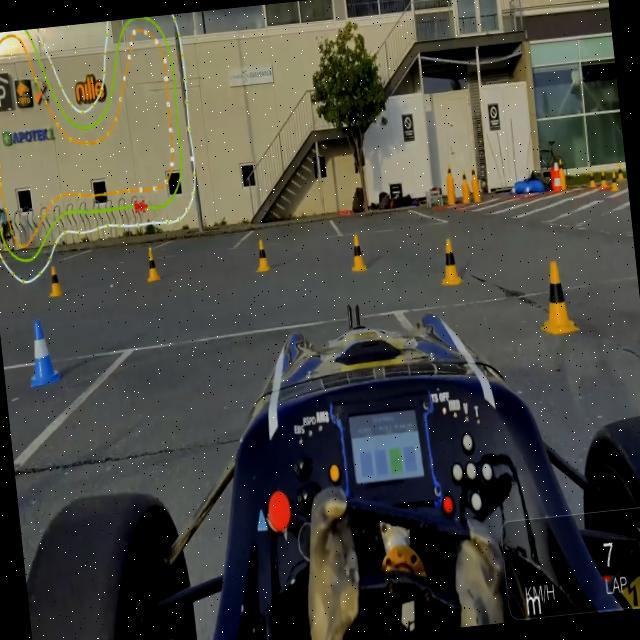blue_cone: (22, 314, 62, 389)
large_orange_cone: (551, 159, 563, 195)
yellow_cone: (532, 254, 580, 338), (434, 235, 464, 289), (346, 230, 370, 274), (252, 234, 274, 276), (142, 243, 162, 284), (46, 265, 64, 299), (609, 168, 617, 191), (616, 162, 625, 182), (557, 156, 565, 178), (460, 167, 468, 188), (599, 168, 607, 189), (588, 168, 596, 188), (469, 165, 476, 185), (446, 164, 452, 179)
